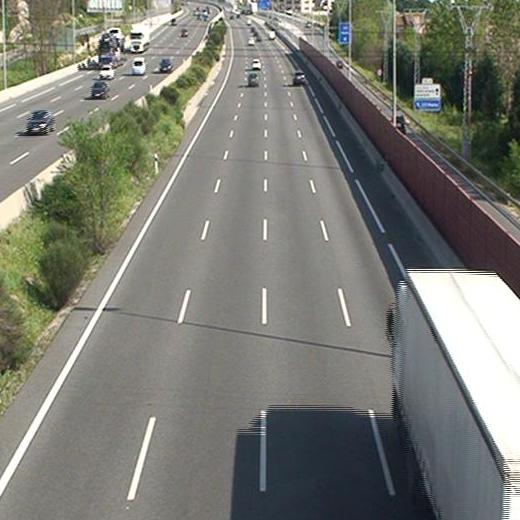car: (247, 72, 259, 86), (293, 72, 305, 85), (250, 59, 261, 69)
truck: (392, 267, 520, 520)
